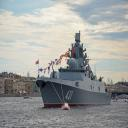Fragata: (35, 29, 115, 110)
